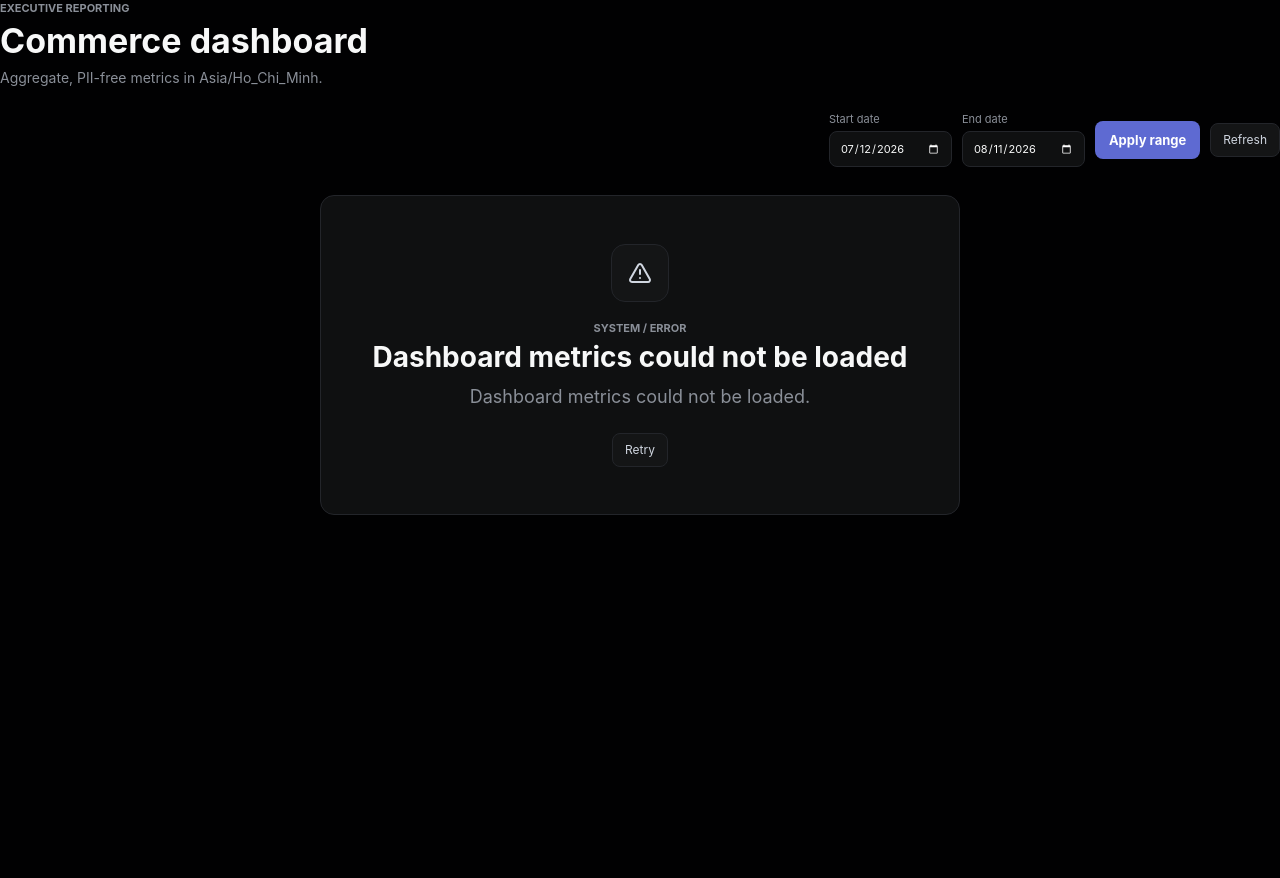
Test: DashboardPage › validates max range and recovers partial API errors
This screenshot has width=1280, height=878.
Check: the message shows "Dashboard metrics could not be loaded", box [372, 340, 908, 374]
Click the button "Retry" at [640, 450], box [612, 433, 668, 467]
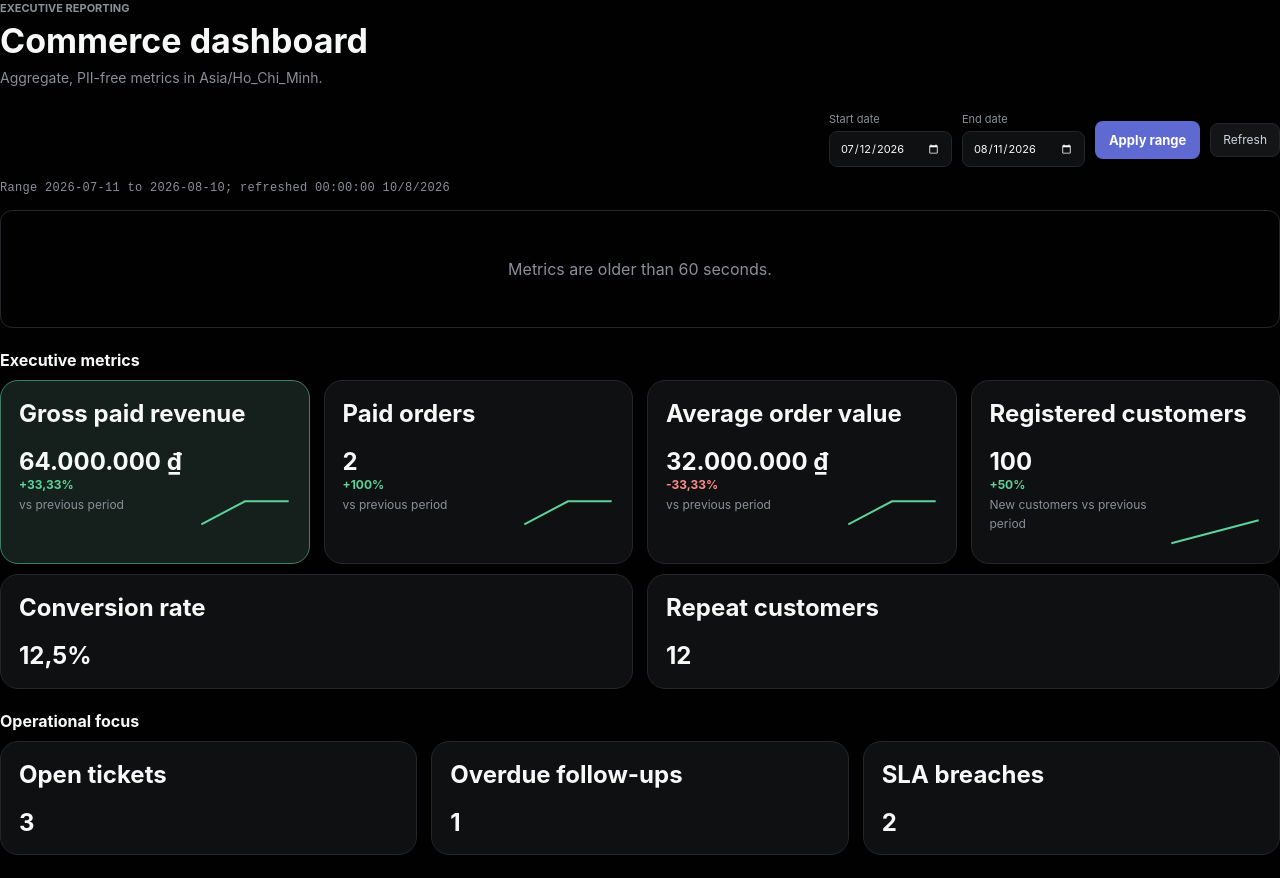
Type "2025-01-01" into the date field labelled "Start date" at [890, 149], box [829, 131, 952, 167]
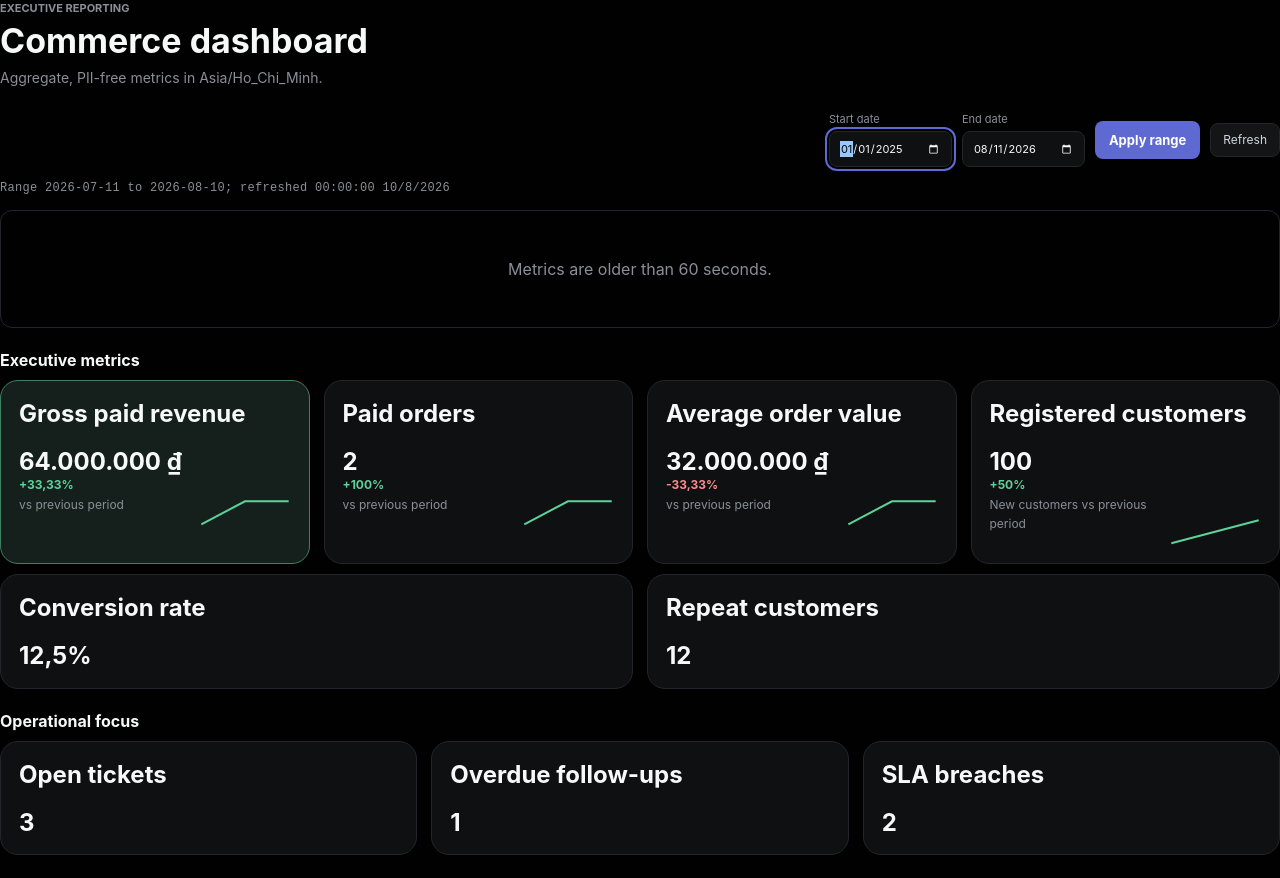
Type "2026-08-10" into the date field labelled "End date" at [1023, 149], box [962, 131, 1085, 167]
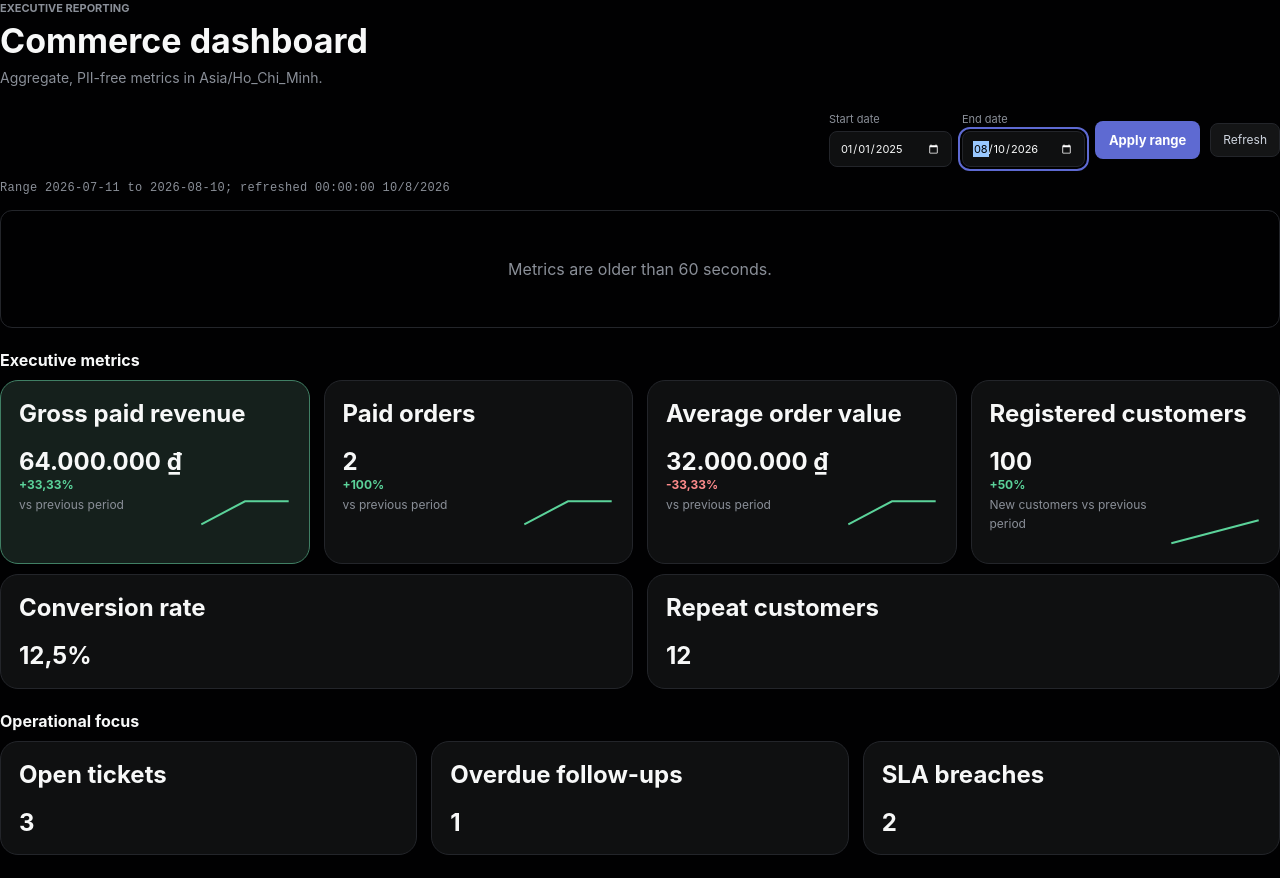
Click the button "Apply range" at [1148, 140], box [1095, 121, 1200, 159]
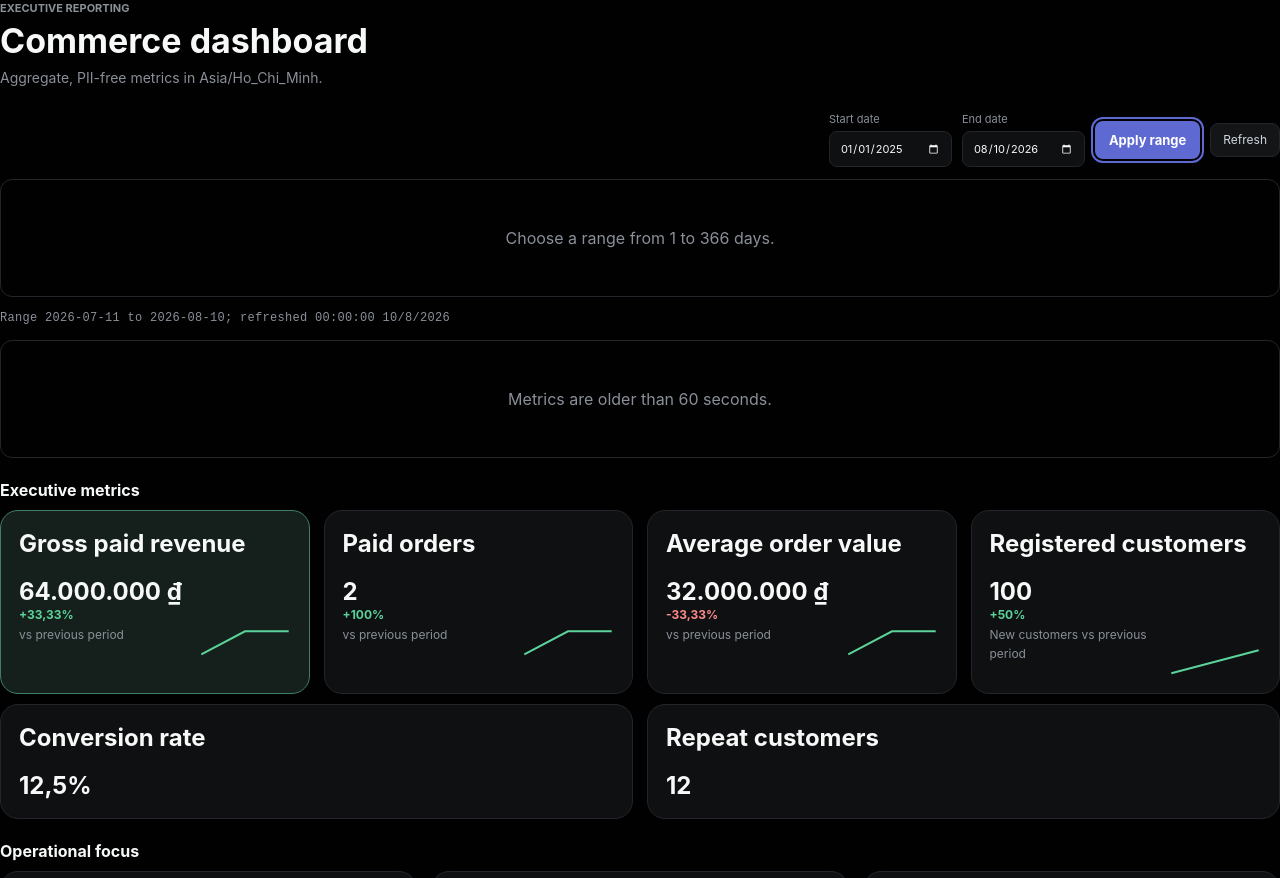
Check: the text "Choose a range from 1 to 366 days." is shown, box [0, 179, 1279, 297]
